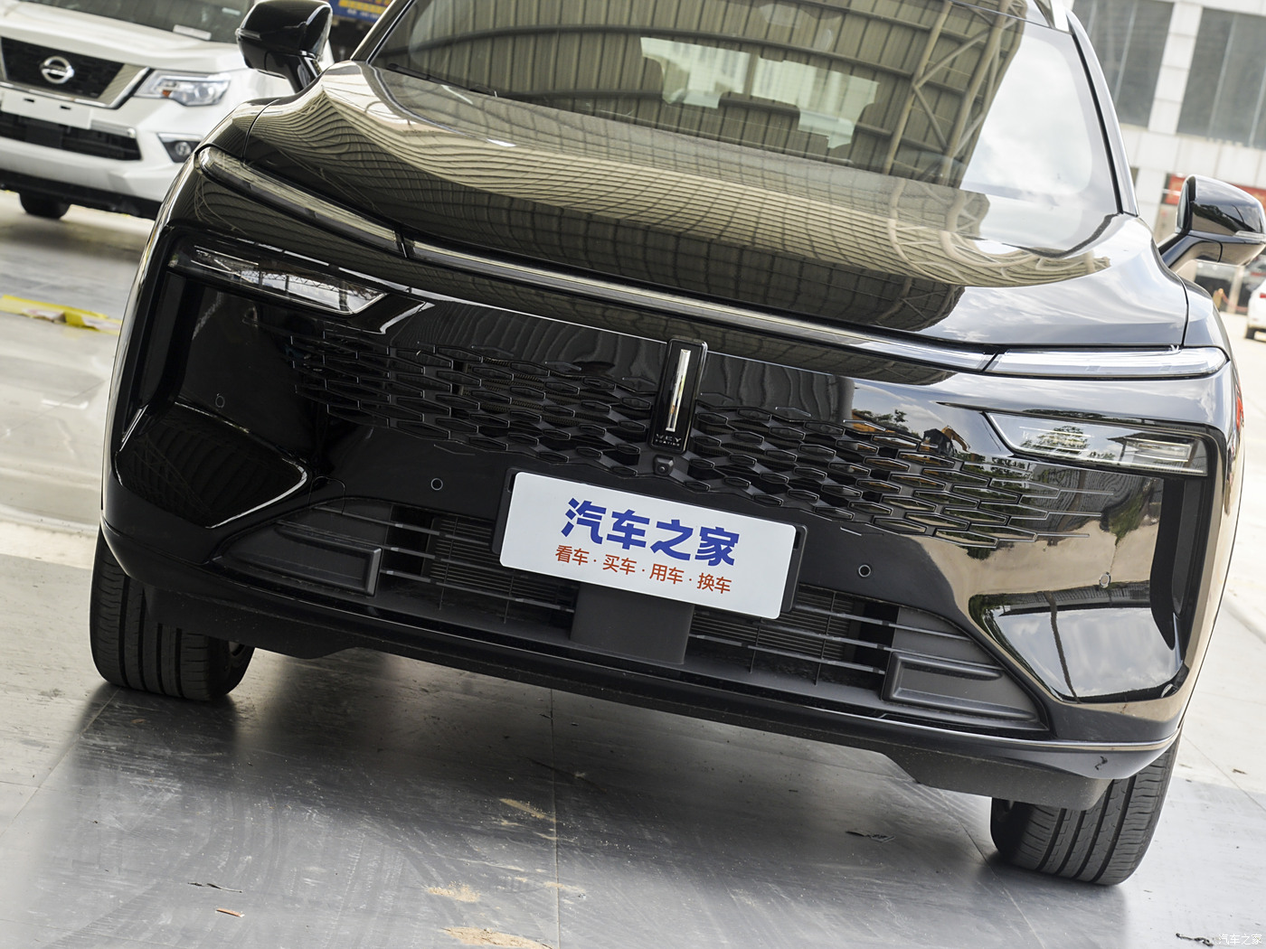WEY: (653, 343, 701, 449)
